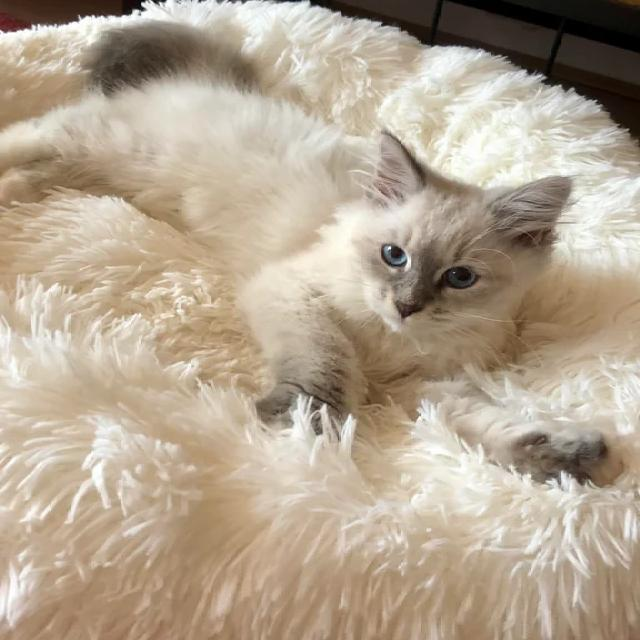Neva Masquerade: (0, 15, 628, 490)
